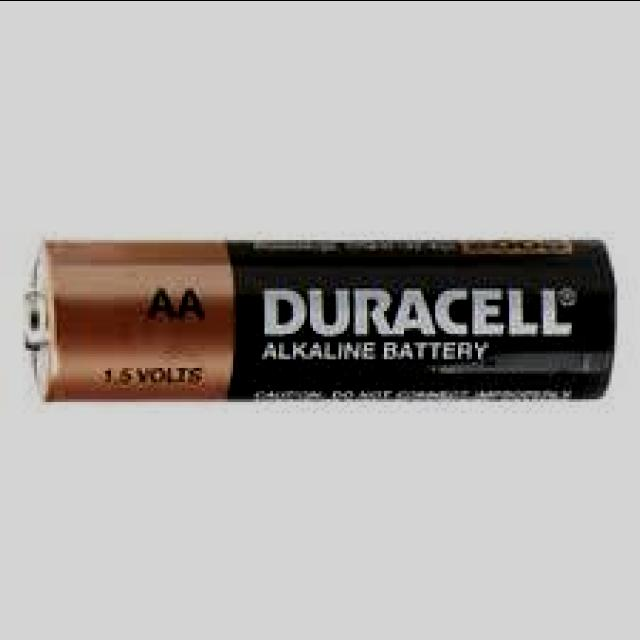AA: (14, 228, 620, 412)
